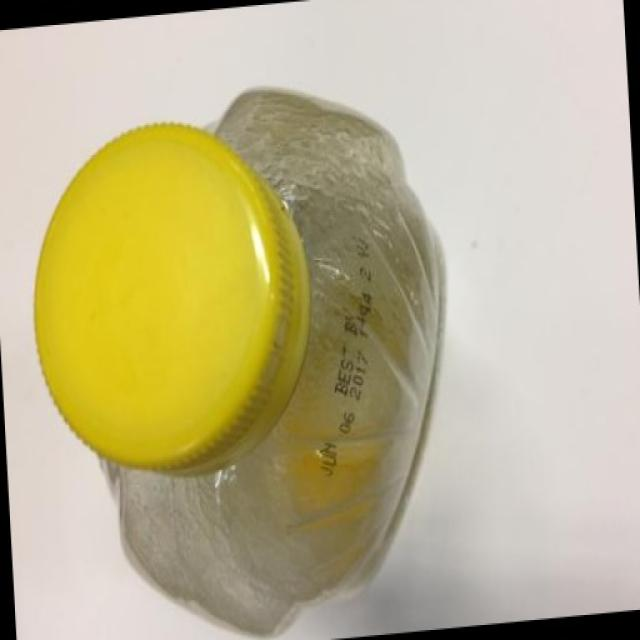plastico: (11, 55, 489, 640)
